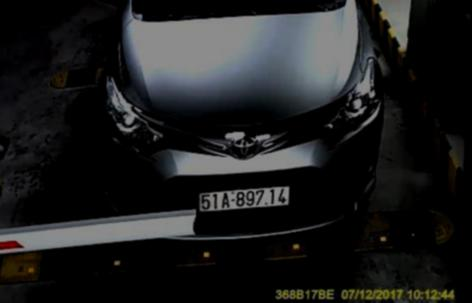License_Plate: (196, 186, 293, 212)
